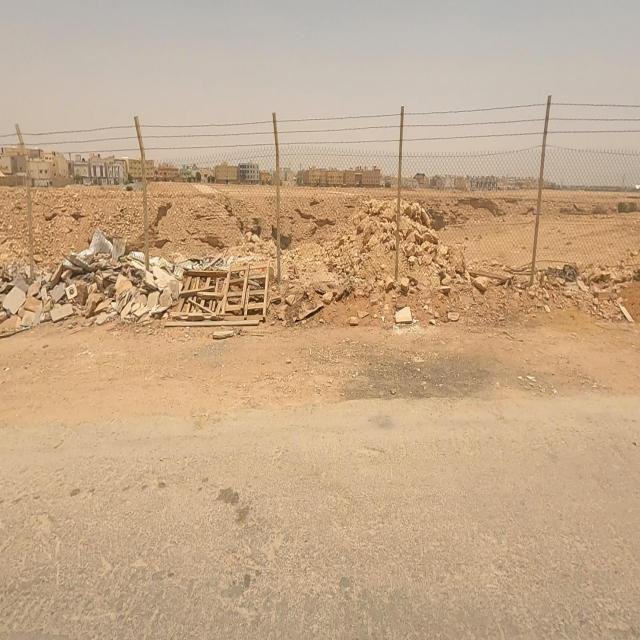debris: (117, 214, 340, 393), (166, 222, 263, 304), (60, 204, 134, 301)
